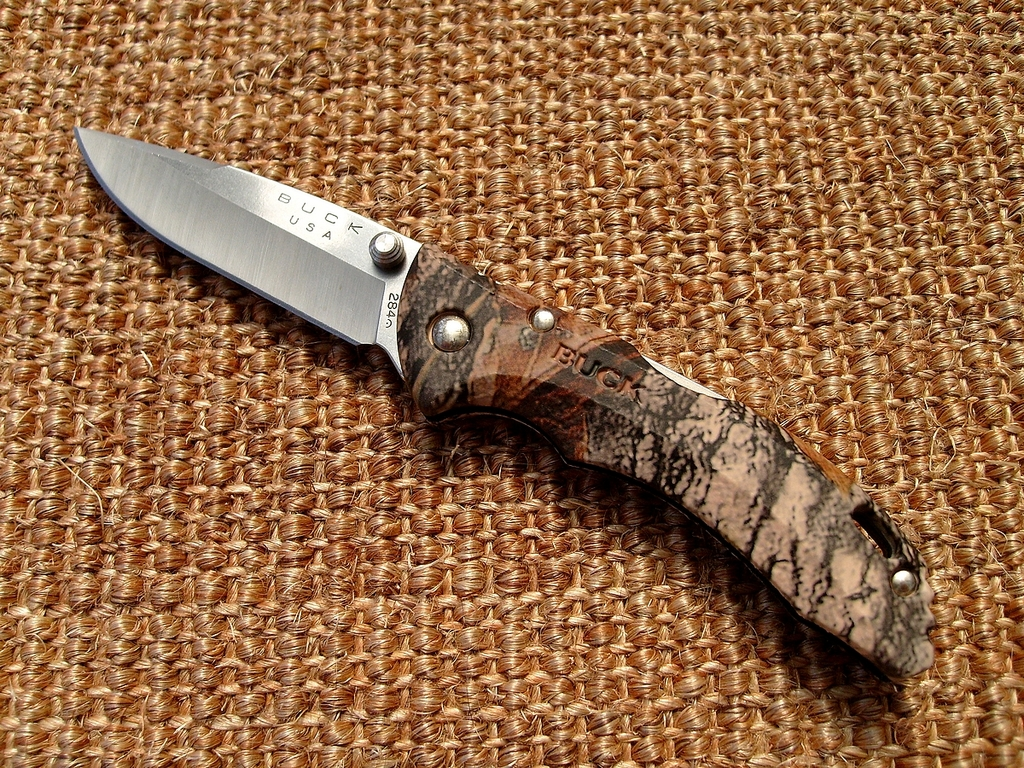knife: (72, 126, 936, 688)
